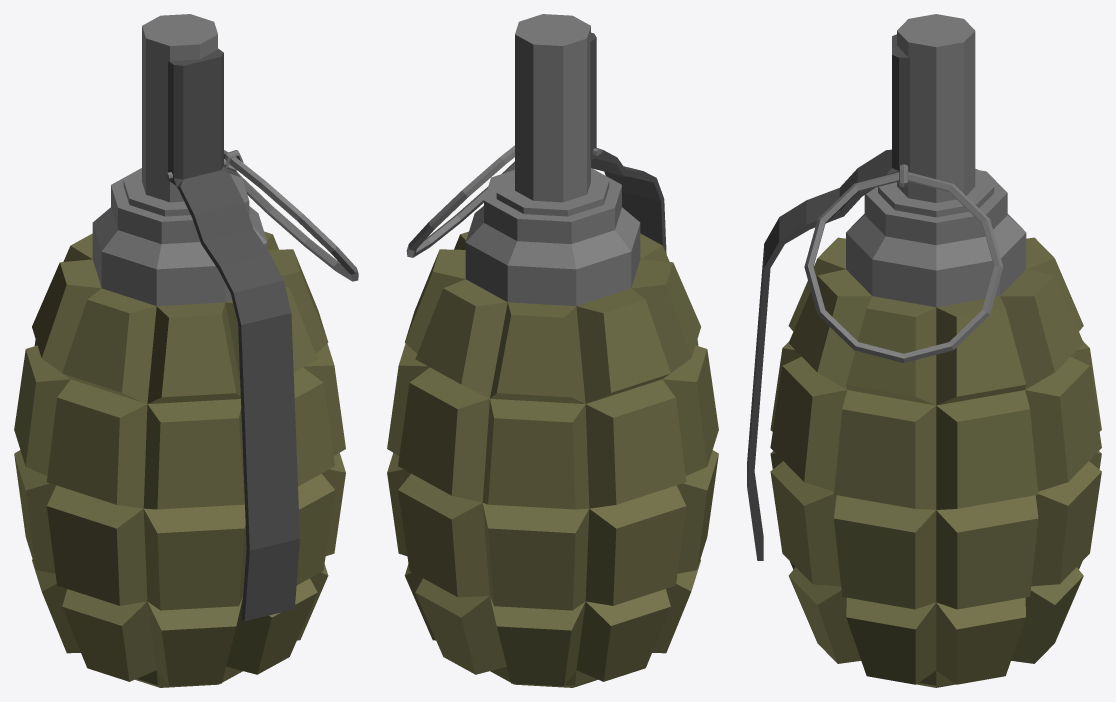
3 renders of one model, left to right at view 1: azimuth 30°, elevation 25°; view 2: azimuth 150°, elevation 25°; view 3: azimuth 270°, elevation 25°, orthographic.
Visible parts, largest first — view 1: F1_Grenade, Pin; view 2: F1_Grenade, Pin; view 3: F1_Grenade, Pin.
Part boxes in pixels (x1,y1,x2,y2): F1_Grenade: [14, 14, 345, 687]; Pin: [165, 150, 358, 281]; F1_Grenade: [387, 14, 718, 687]; Pin: [406, 145, 599, 257]; F1_Grenade: [747, 14, 1101, 687]; Pin: [804, 164, 1003, 362].
Bounding box in the file's own units: 182 × 376 × 194.
1 material, 1 textured.
